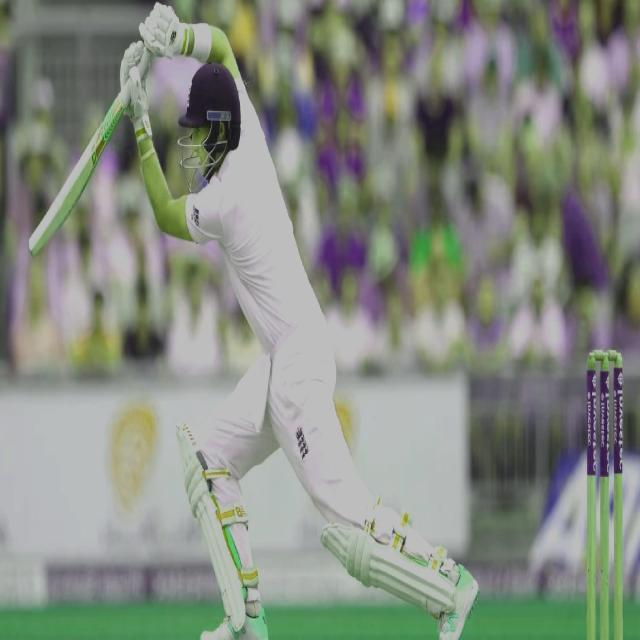bat: (18, 78, 135, 263)
